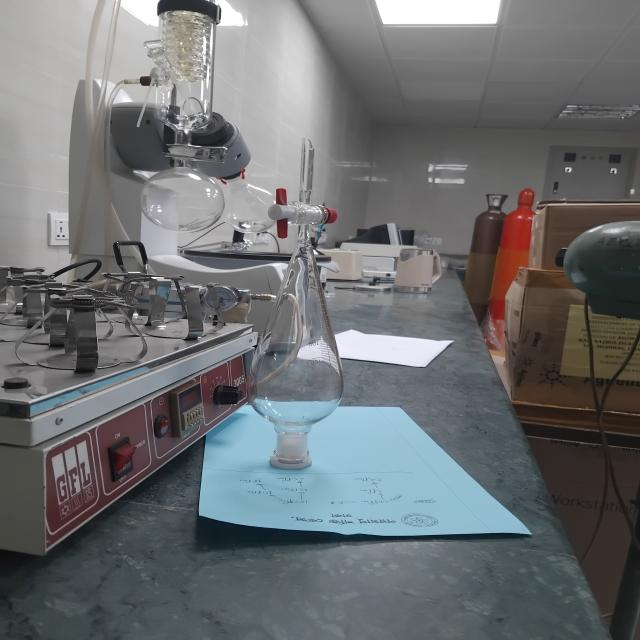Separating_Funnel: (213, 121, 378, 495)
